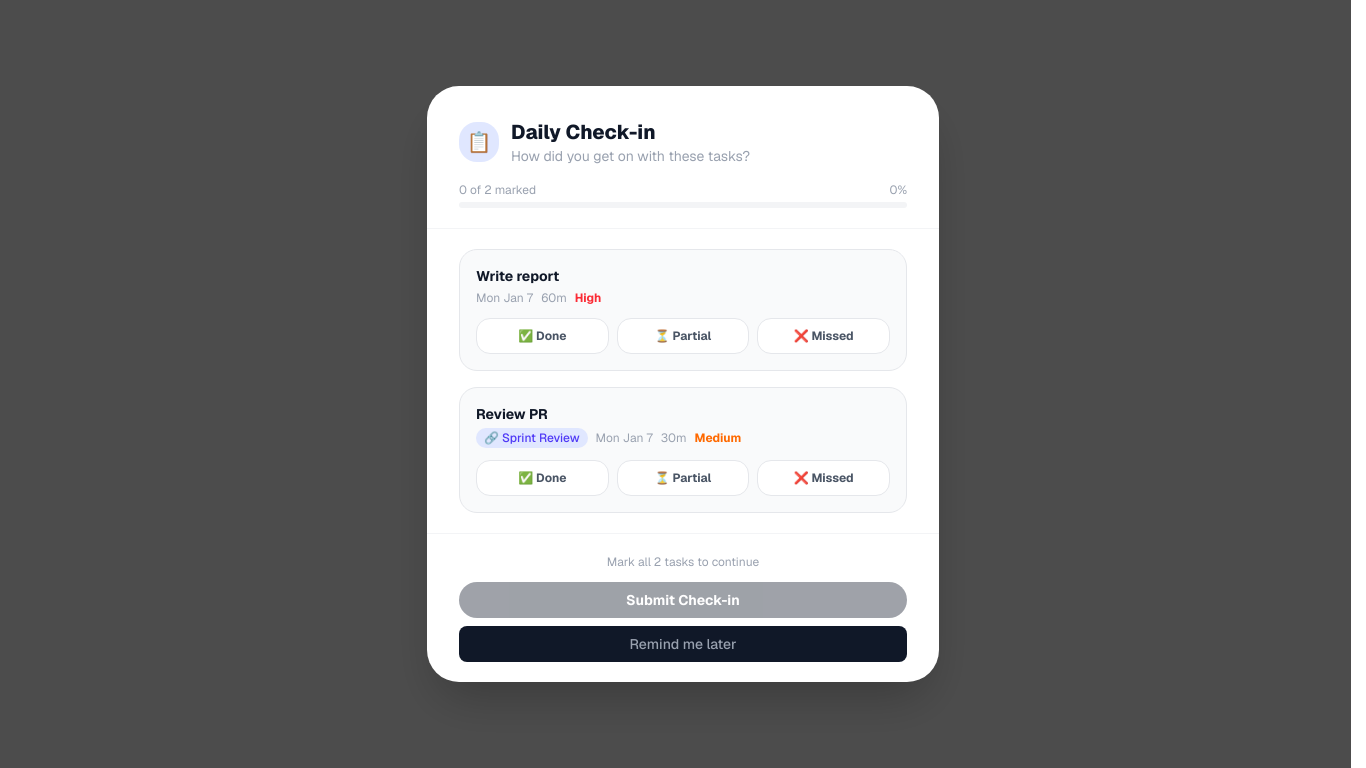
Test: CheckInModal — header › updates marked count when task is completed
Click the button "✅ Done" below "60": {"x": 542, "y": 336} [476,318,609,354]
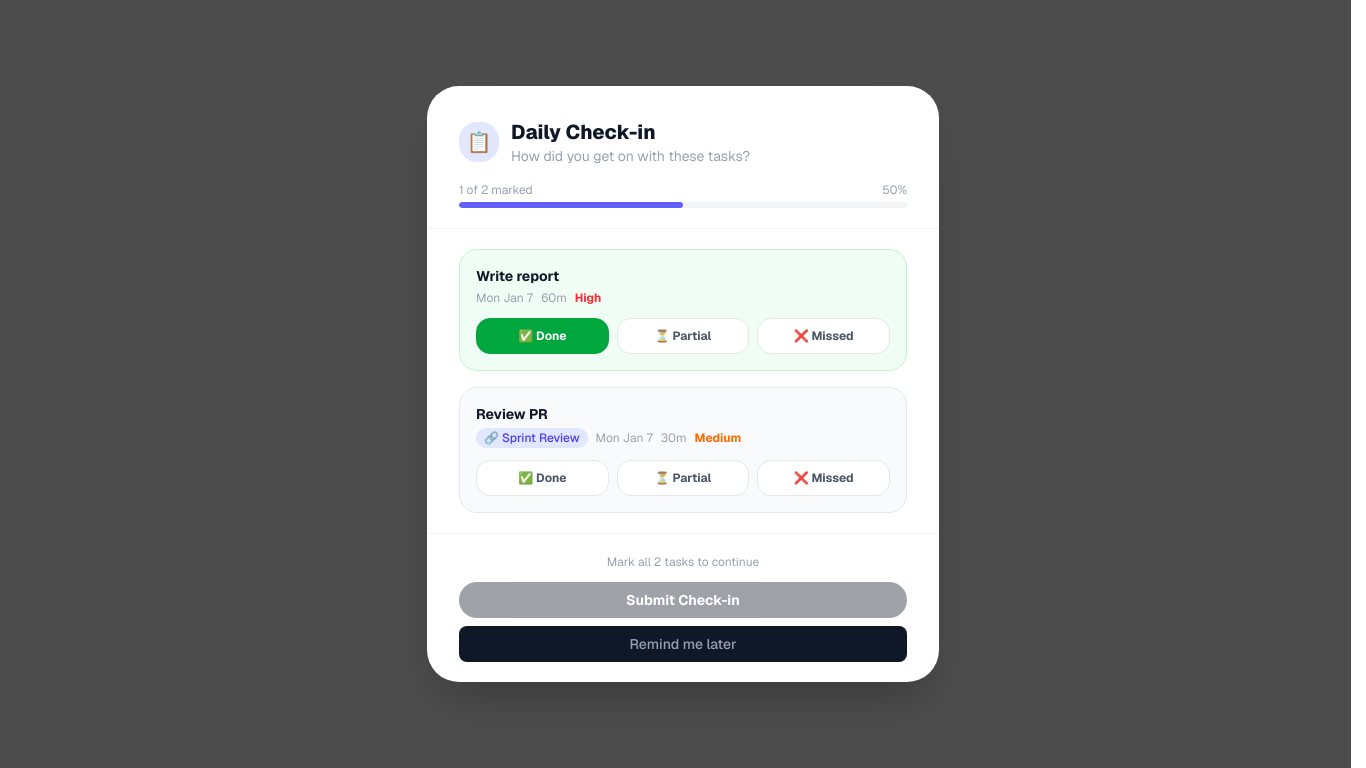
Now the text "1 of 2 marked" is shown, box [459,182,533,198]
